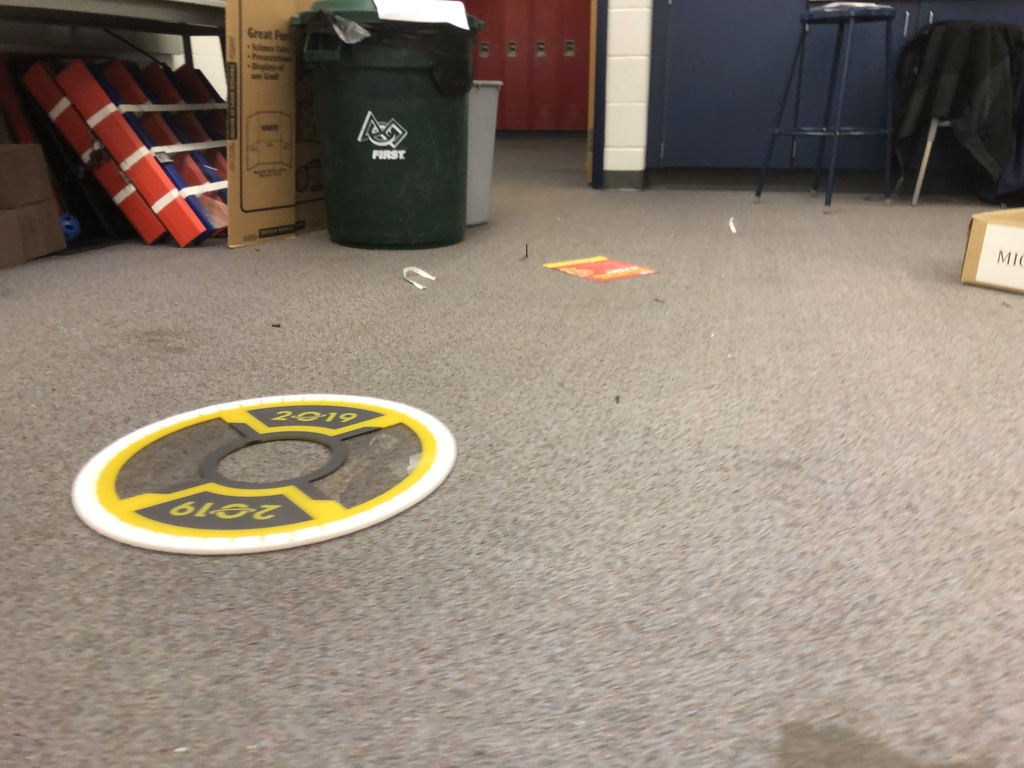hatch_panel: (58, 373, 471, 573)
